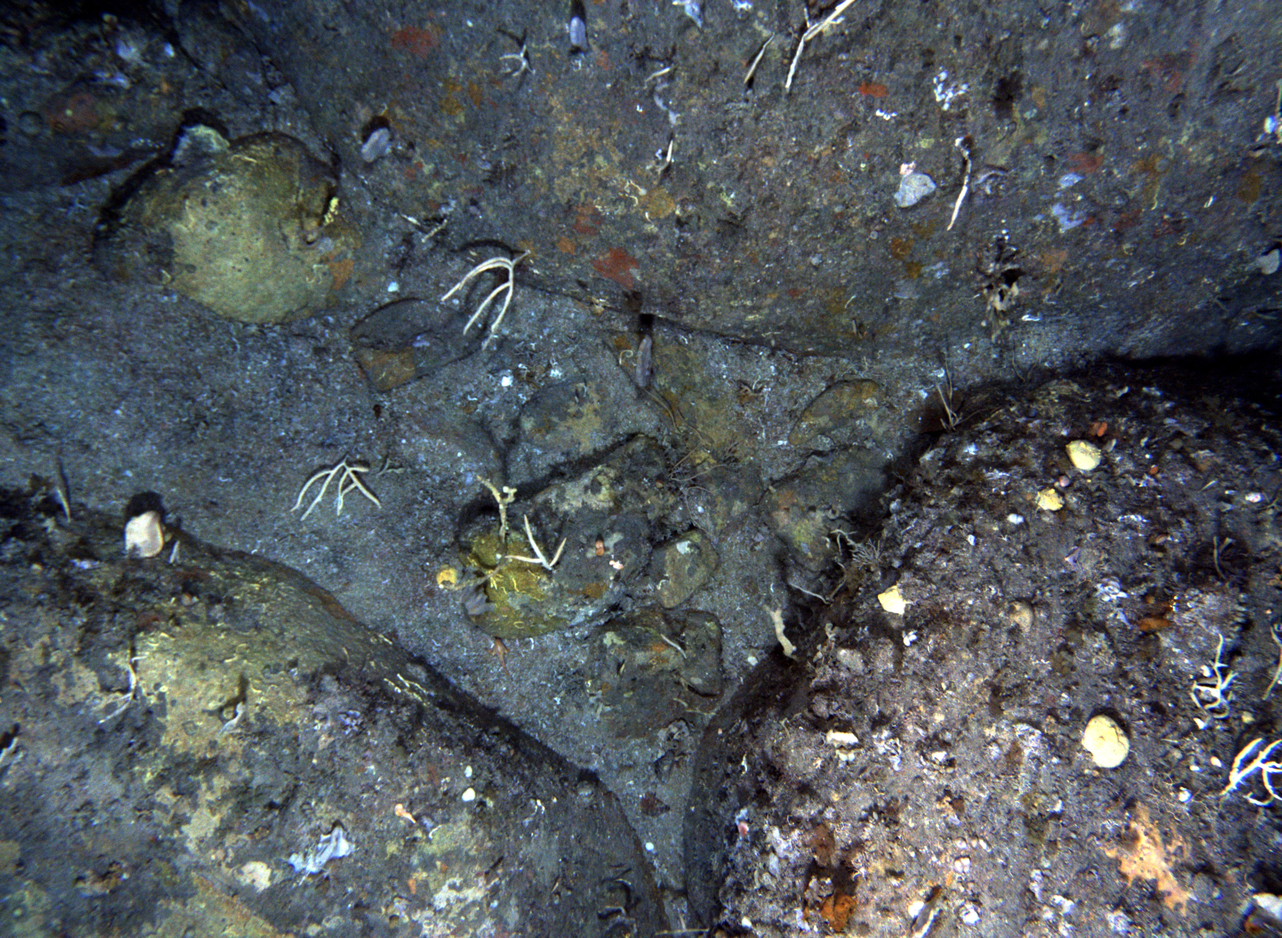Brachionichthyidae: (487, 637, 511, 677)
